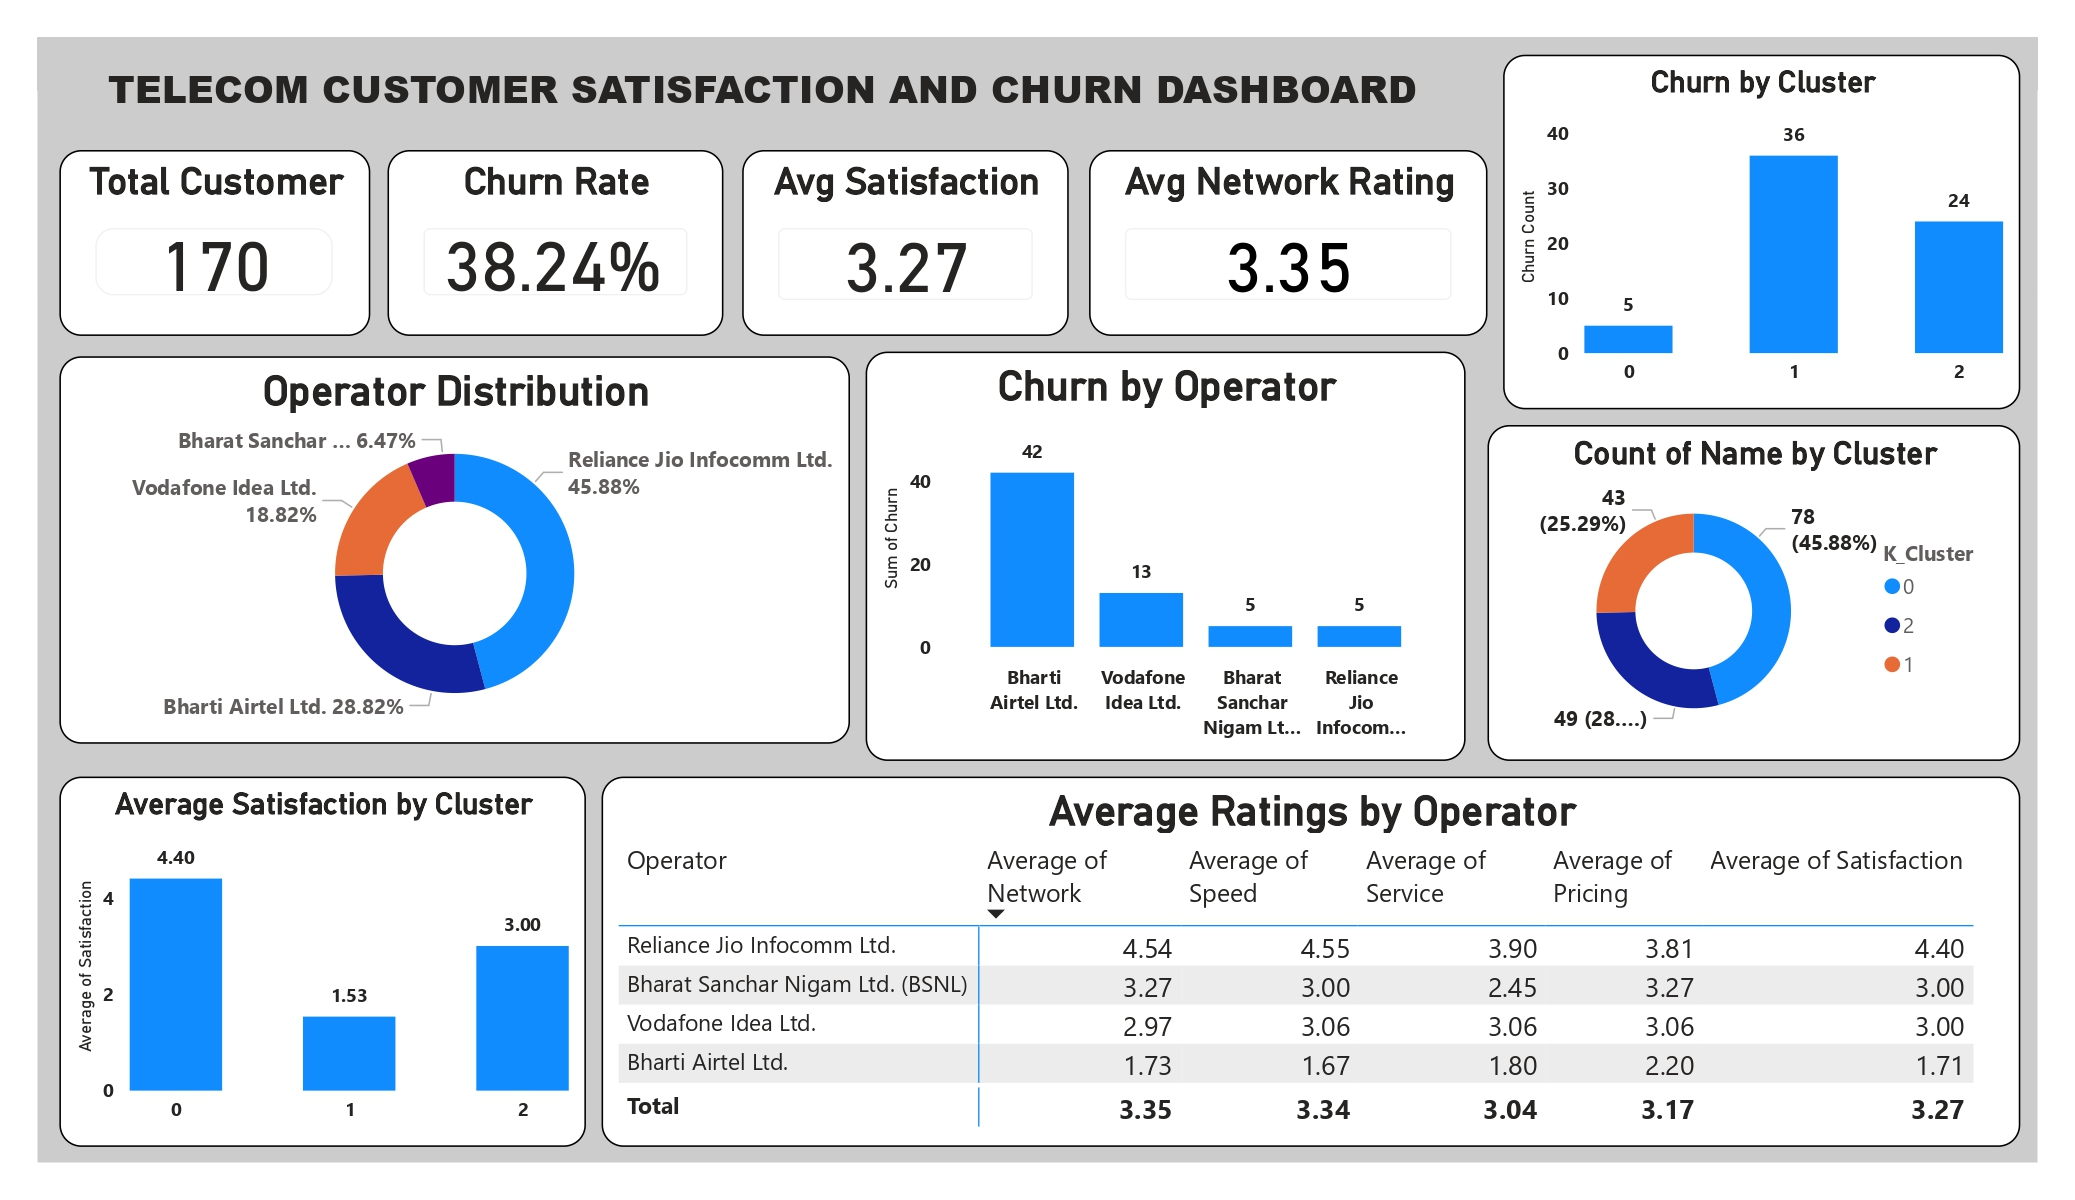

Layout of this report page (visuals, bound fields, positions):
{"tool":"powerbi","page":{"name":"Telecom Customer Satisfaction & Churn Overview","canvas":[1280,720],"ordinal":0},"visuals":[{"type":"cardVisual","title":"Total Customer","fields":{"Data":["CountNonNull(final_telecom_data.Name)"]},"box":[14.2,72.3,198.4,119.1],"z":0},{"type":"cardVisual","title":"Churn Rate","fields":{"Data":["final_telecom_data.Churn Rate %"]},"box":[223.9,72.3,215.4,119.1],"z":1000},{"type":"cardVisual","title":"Avg Satisfaction","fields":{"Data":["Avg(final_telecom_data.Satisfaction)"]},"box":[450.7,72.3,209.8,119.1],"z":2000},{"type":"cardVisual","title":"Avg Network Rating","fields":{"Data":["Avg(final_telecom_data.Network)"]},"box":[673.2,72.3,255.1,119.1],"z":3000},{"type":"donutChart","title":"Operator Distribution","fields":{"Category":["final_telecom_data.Operator"],"Y":["CountNonNull(final_telecom_data.Name)"]},"box":[14.2,204.1,506,248],"z":4000},{"type":"clusteredColumnChart","title":"Churn by Operator","fields":{"Category":["final_telecom_data.Operator"],"Y":["Sum(final_telecom_data.Churn)"]},"box":[530.1,201.3,384.1,262.2],"z":5000},{"type":"pivotTable","title":"Average Ratings by Operator","fields":{"Rows":["final_telecom_data.Operator"],"Values":["Avg(final_telecom_data.Network)","Avg(final_telecom_data.Speed)","Avg(final_telecom_data.Service)","Avg(final_telecom_data.Pricing)","Avg(final_telecom_data.Satisfaction)"]},"box":[361.4,473.4,907.1,236.7],"z":6000},{"type":"donutChart","title":"Count of Name by Cluster","fields":{"Category":["final_telecom_data.K_Cluster"],"Y":["CountNonNull(final_telecom_data.Name)"]},"box":[928.3,248,340.2,215.4],"z":7000},{"type":"clusteredColumnChart","title":"Average Satisfaction by Cluster","fields":{"Y":["Avg(final_telecom_data.Satisfaction)"],"Category":["final_telecom_data.K_Cluster"]},"box":[14.2,473.4,337.3,236.7],"z":8000},{"type":"columnChart","title":"Churn by Cluster","fields":{"Category":["final_telecom_data.K_Cluster"],"Y":["final_telecom_data.Churn Count"]},"box":[938.3,11.3,330.2,226.8],"z":9000},{"type":"textbox","box":[14.2,11.3,900,60.9],"z":10000}]}

Visuals, with their boxes in screenshot pixels (x1, y1, x2, y2):
"Total Customer" cardVisual: 71:166:376:349
"Churn Rate" cardVisual: 394:166:726:349
"Avg Satisfaction" cardVisual: 744:166:1067:349
"Avg Network Rating" cardVisual: 1087:166:1480:349
"Operator Distribution" donutChart: 71:369:851:751
"Churn by Operator" clusteredColumnChart: 866:364:1458:769
"Average Ratings by Operator" pivotTable: 606:784:2005:1149
"Count of Name by Cluster" donutChart: 1480:436:2005:769
"Average Satisfaction by Cluster" clusteredColumnChart: 71:784:591:1149
"Churn by Cluster" columnChart: 1495:71:2005:421
textbox: 71:71:1458:165
